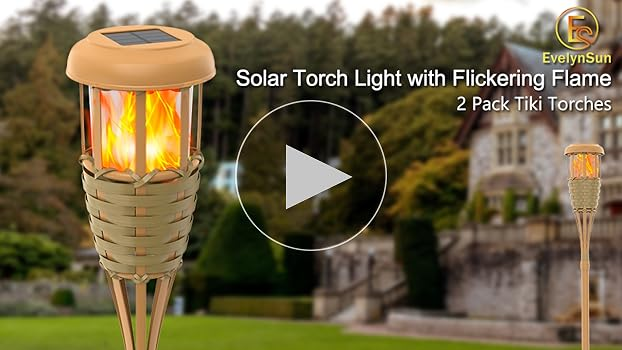Open-Flame-Hazard: (58, 12, 209, 350)
